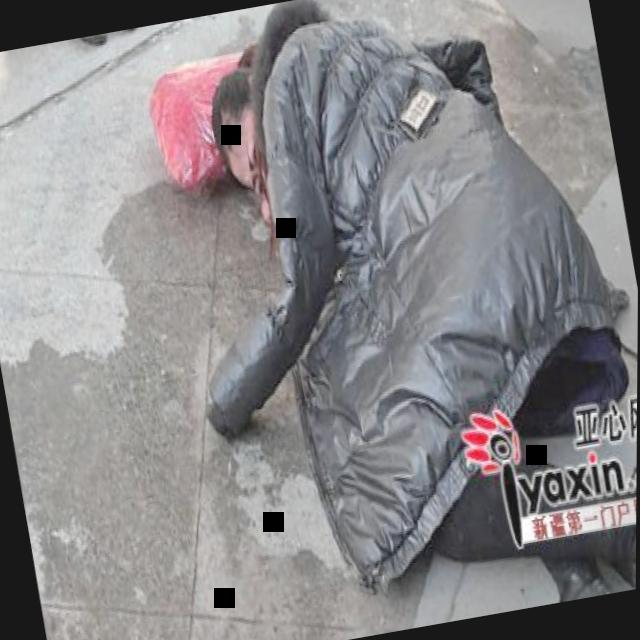Fall-Detected: (135, 0, 640, 640)
